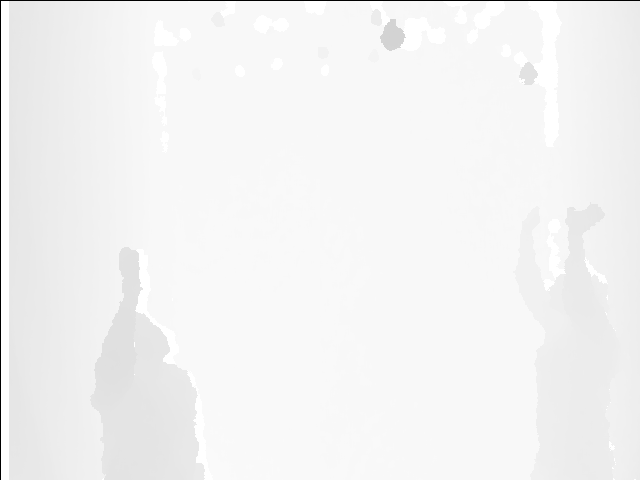hand: (560, 199, 604, 241), (119, 247, 145, 299), (516, 202, 547, 244)
